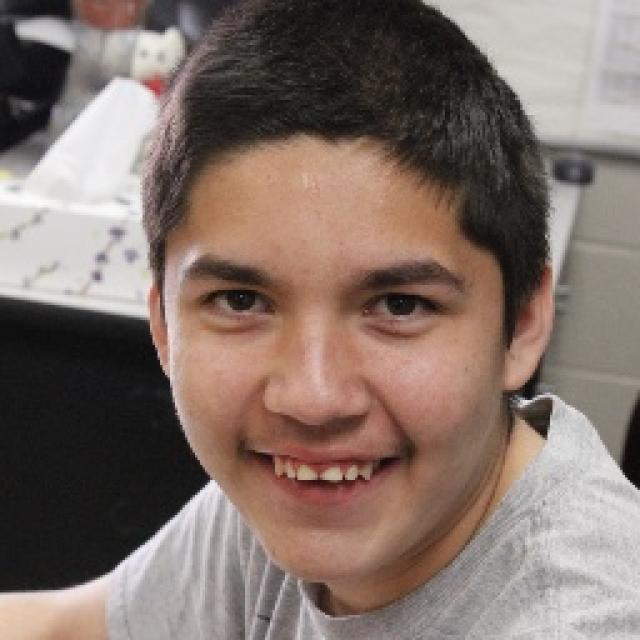earlobe: (499, 259, 554, 394), (146, 268, 172, 380)
